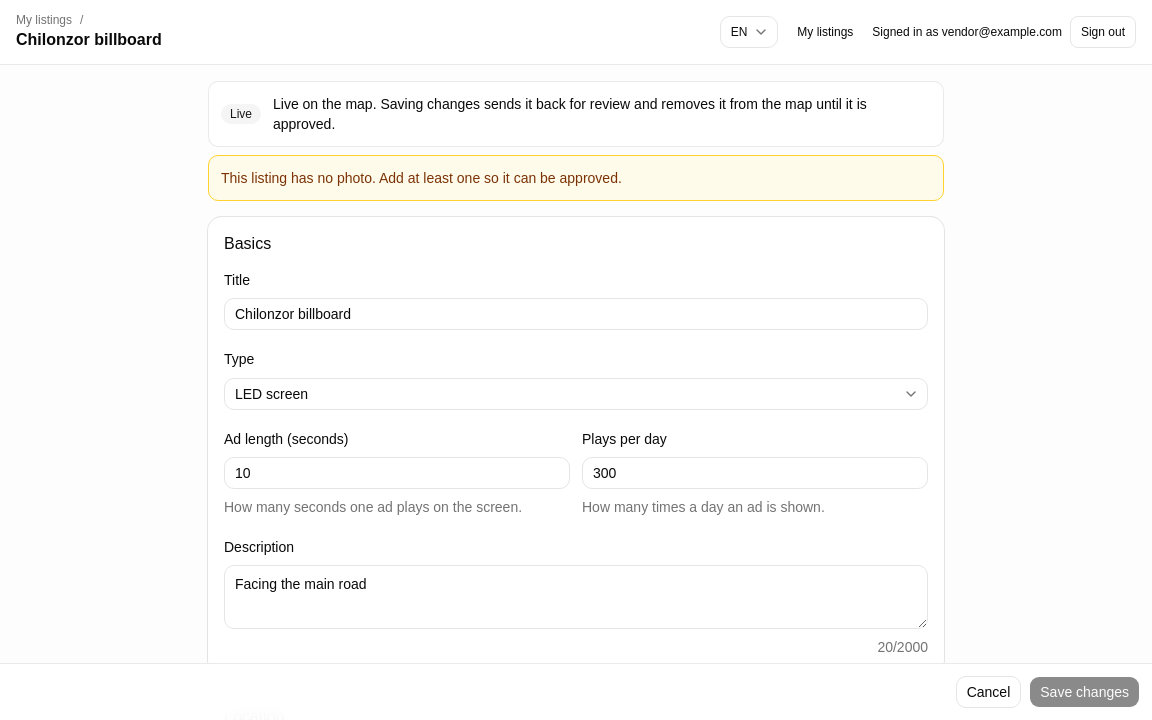
ListingEditorPage: LED fields › puts the server’s type-only LED error under the Type field
The width and height of the screenshot is (1152, 720).
Step 1. Type "5" into the field labelled "Ad length (seconds)" → (397, 473), box [224,457,570,489]
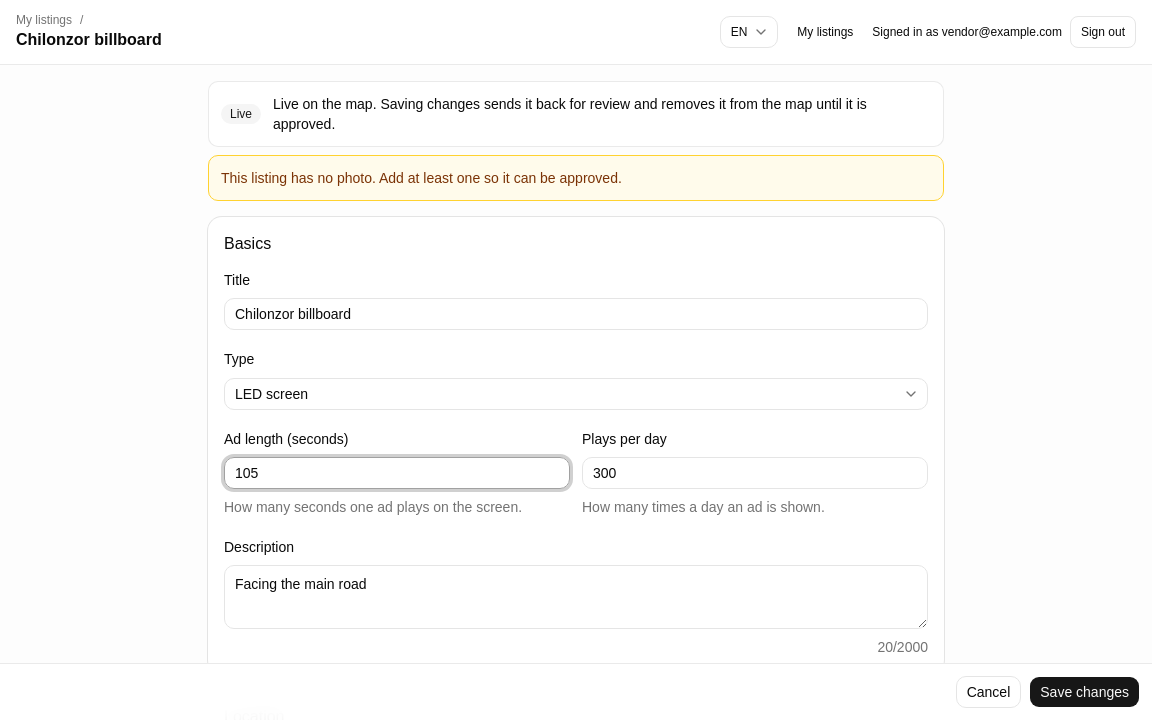
Step 2. Click the button "Save changes" → (1085, 692), box [1029,676,1140,708]
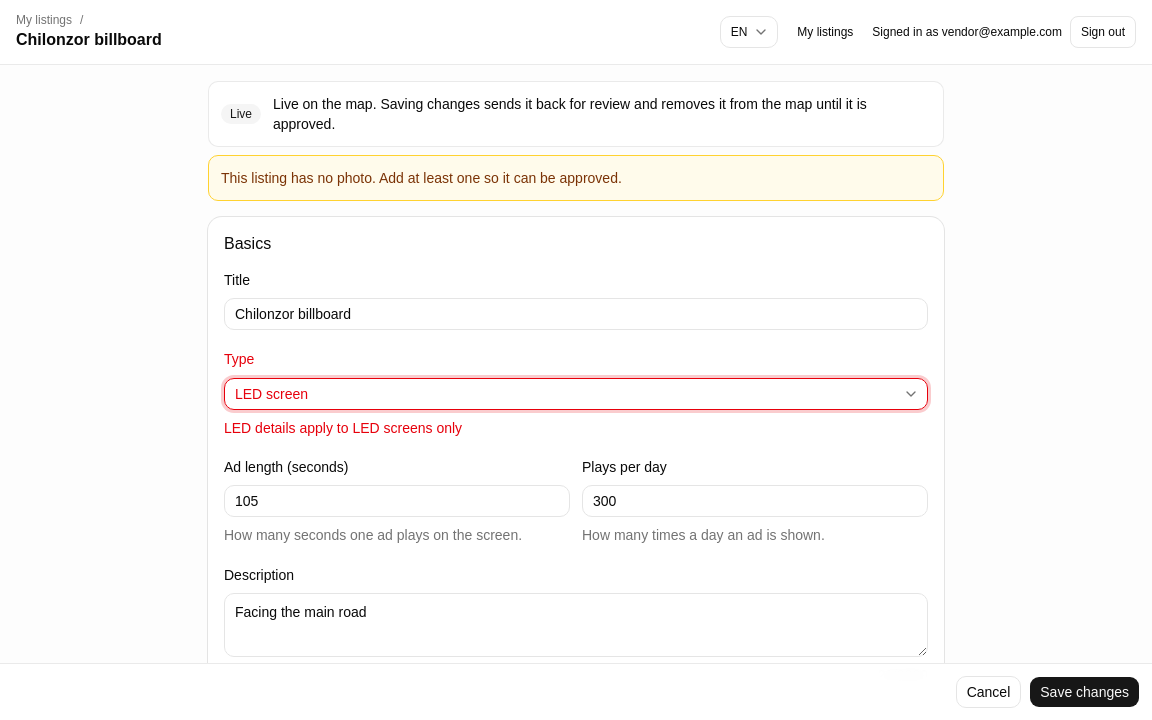
Result: the text "LED details apply to LED screens only" is shown at [224,420,462,436]
